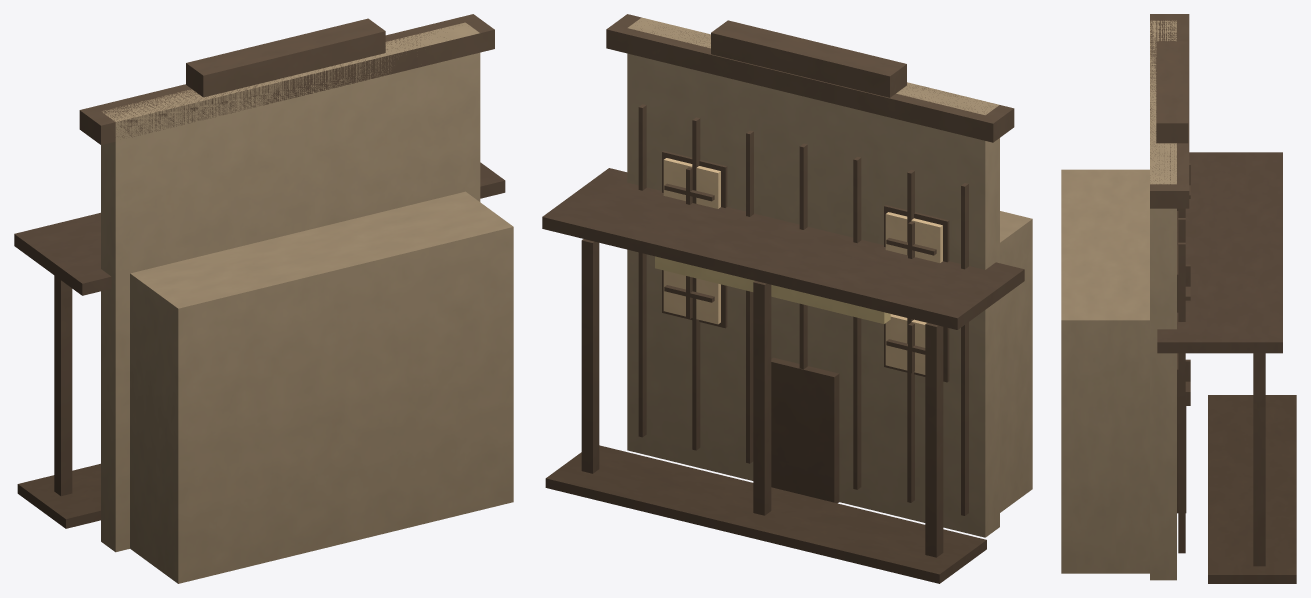
Rendered from production_saloon.glb.
The picture shows the model from 3 angles, left to right: view 1: azimuth 30°, elevation 25°; view 2: azimuth 150°, elevation 25°; view 3: azimuth 270°, elevation 25°; orthographic projection. The views are drawn at different scales.
Visible parts, largest first — view 1: production_saloon; view 2: production_saloon; view 3: production_saloon.
Part boxes in pixels (<box>): production_saloon: <box>14,14,513,583</box>; production_saloon: <box>542,14,1032,583</box>; production_saloon: <box>1061,14,1296,583</box>.
Size of the model in its own units: 3.65 by 3.73 by 1.91.
1 material, 1 textured.
